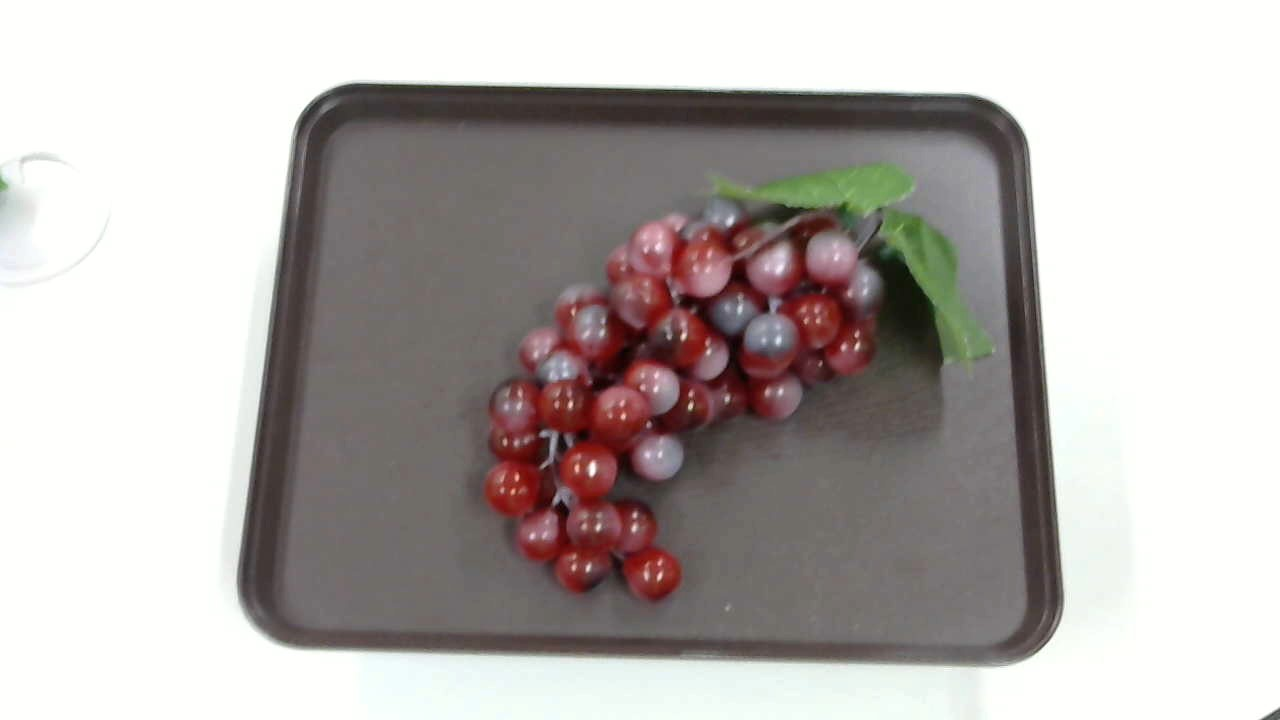grape: (469, 164, 998, 620)
